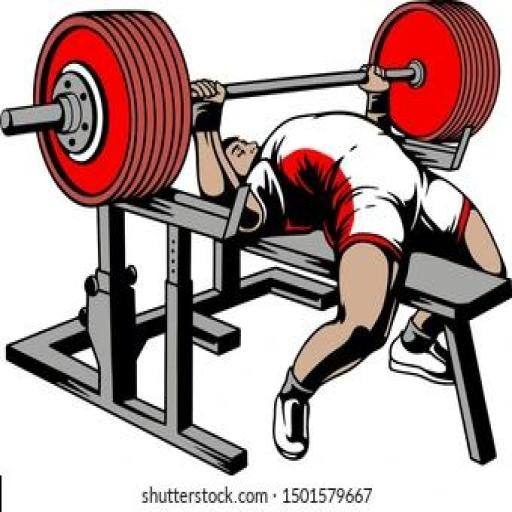exercise: (187, 75, 509, 463)
